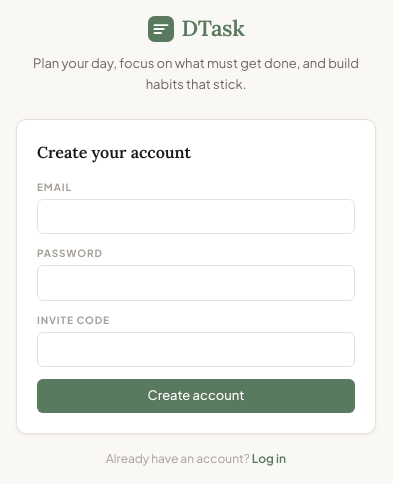
Scenario: WelcomeView › shows the login error detail on bad credentials
Step 1. Click the button "Log in" → click(269, 459), box [252,450,286,468]
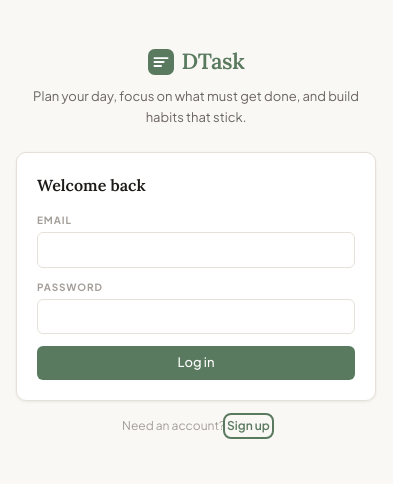
Step 2. Type "user@example.com" into the field labelled "Email" → (196, 250), box [37,232,355,268]
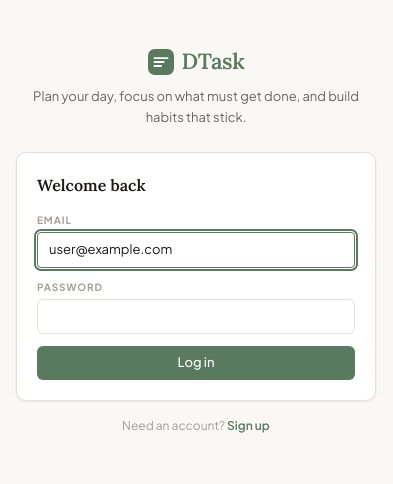
Step 3. Type "wrong-password" into the password field labelled "Password" → (196, 316), box [37,298,355,334]
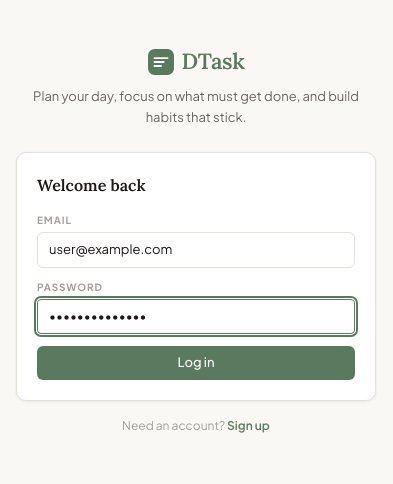
Step 4. Click the button "Log in" → click(196, 363), box [37,346,355,380]
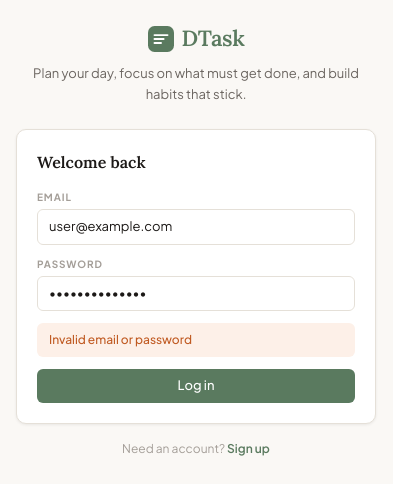
Expected: the text "Invalid email or password" is shown, [37,323,355,357]
